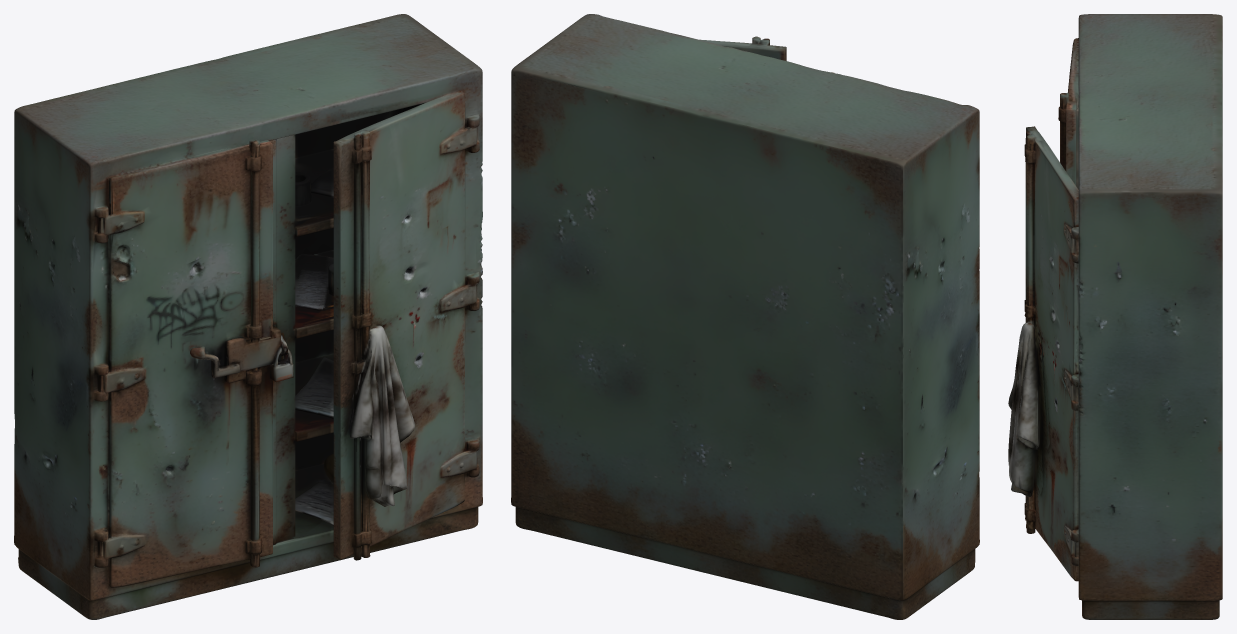
The model's file is TuNhoo.fbx.
The picture shows the model from 3 angles, left to right: view 1: azimuth 30°, elevation 25°; view 2: azimuth 150°, elevation 25°; view 3: azimuth 270°, elevation 25°; orthographic projection. The views are drawn at different scales.
Parts seen in each view (by area): view 1: node_0; view 2: node_0; view 3: node_0.
Part boxes in pixels (x1,y1,x2,y2): node_0: (14, 14, 482, 619); node_0: (511, 14, 979, 619); node_0: (1008, 14, 1222, 619).
Size of the model in its own units: 76.5 by 85.43 by 38.64.
1 material, 1 textured.
